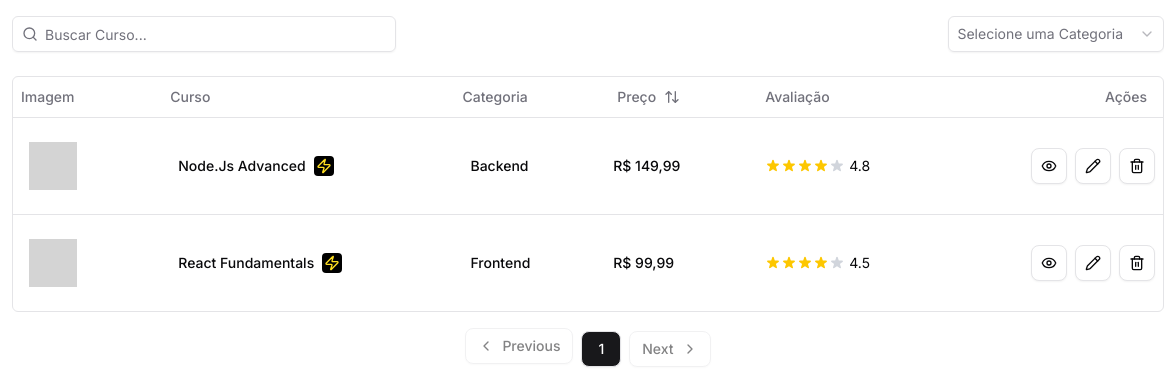
CourseData Component › deve filtrar cursos por título
Type "React" into the field with placeholder "Buscar Curso..." at point(204, 34), box [12, 16, 396, 52]
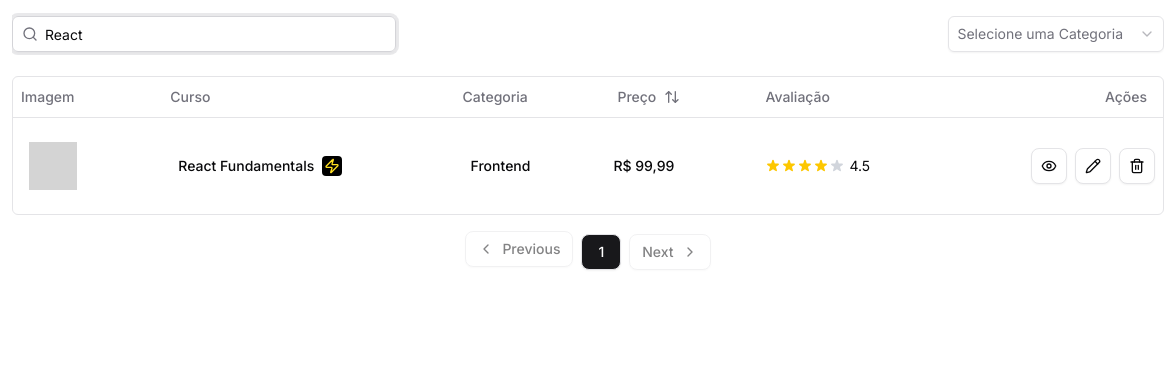
Expected: the text "React Fundamentals" is shown, [178, 156, 314, 174]
Expected: the text "Node.js Advanced" is gone
